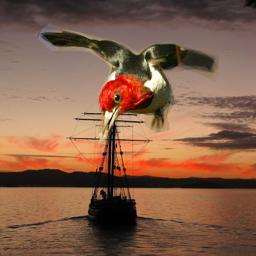Woodpecker: (30, 20, 219, 150)
